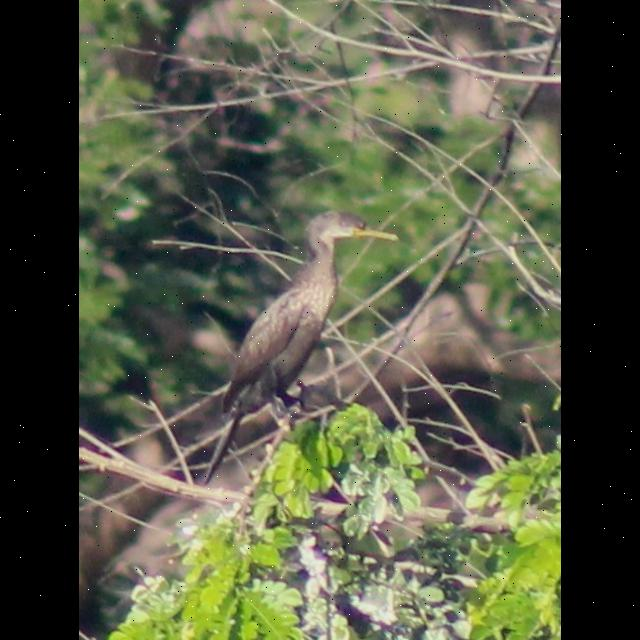cormorant: (199, 199, 401, 486)
